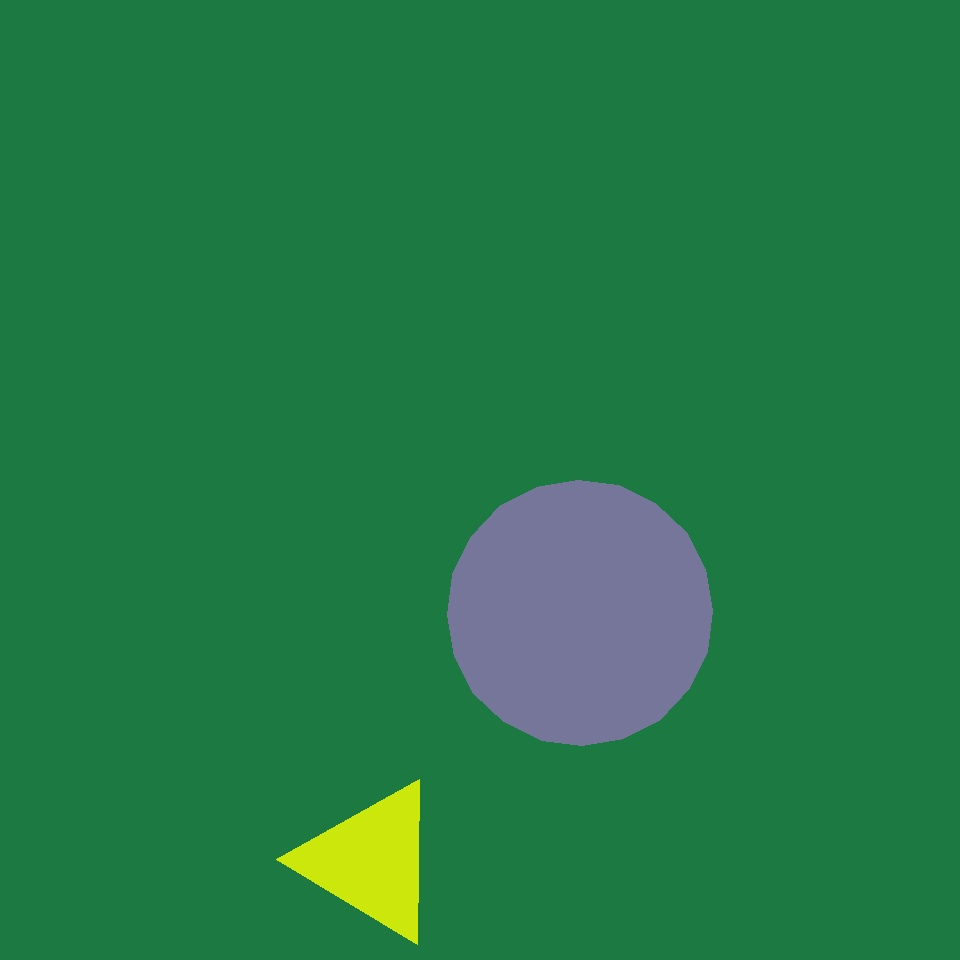circle: (300, 778, 442, 944)
square: (540, 141, 765, 366), (216, 554, 395, 732)
triangle: (447, 480, 712, 746)
